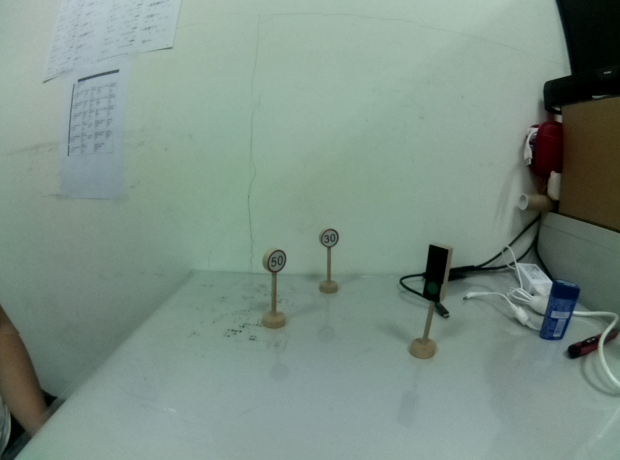Green: (420, 239, 460, 307)
Speed30: (318, 222, 343, 251)
Speed50: (260, 246, 288, 274)
